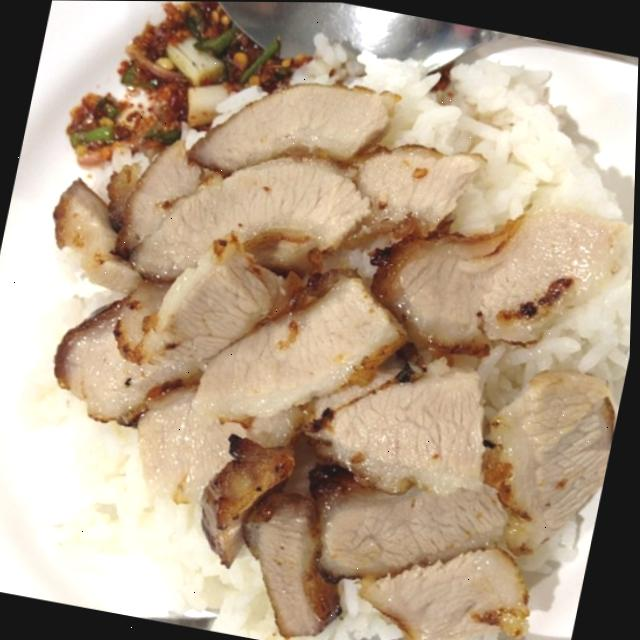猪肉菜式: (0, 18, 640, 640)
